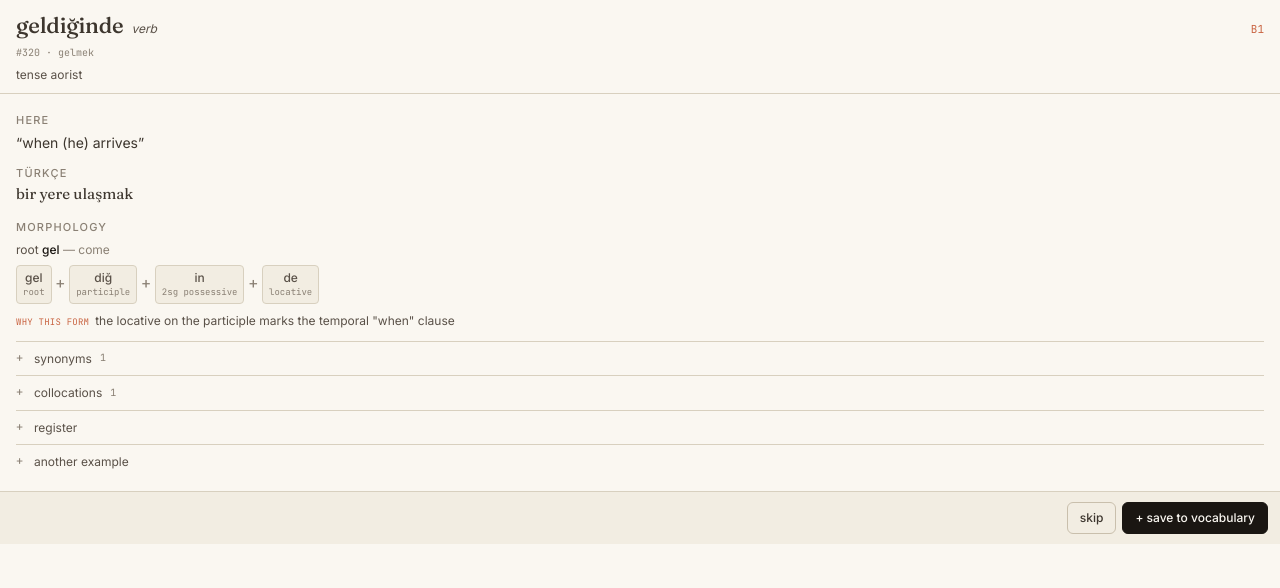
DeepWordCardBody — collapsible extras (Req 6.4) › keeps synonyms collapsed by default and reveals them on click
Expected: the text "varmak" is not shown
Click the button "+ synonyms 1" at (63, 359), box [16, 342, 1264, 375]
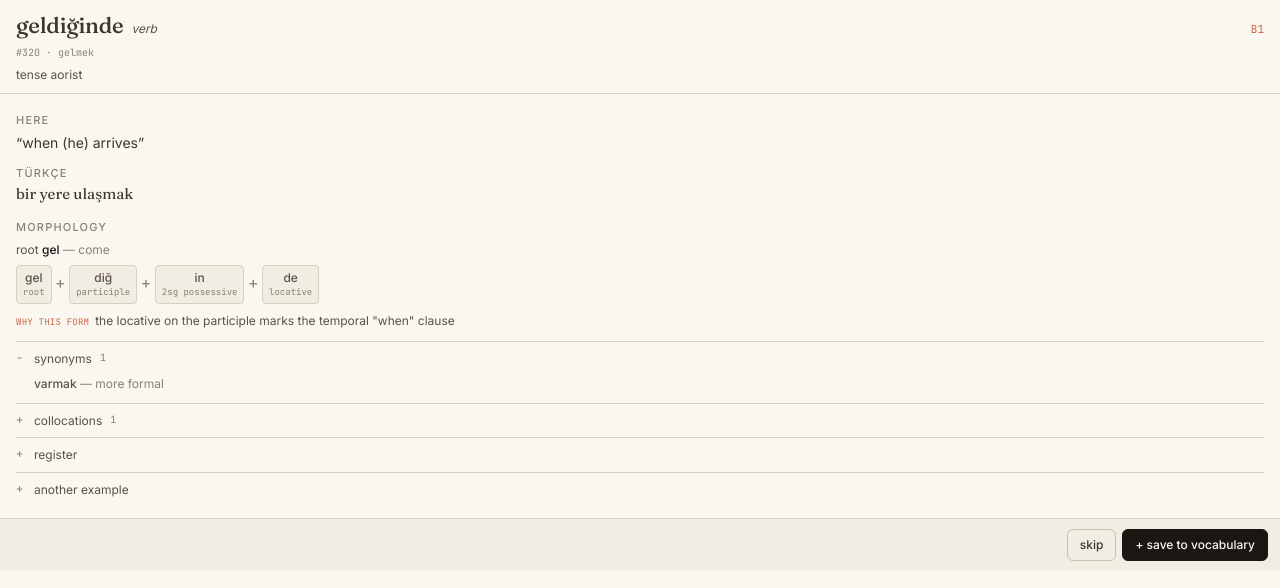
Result: the text "varmak" is shown at [34, 376, 77, 391]
Result: the text "— more formal" is shown at [77, 376, 164, 391]
